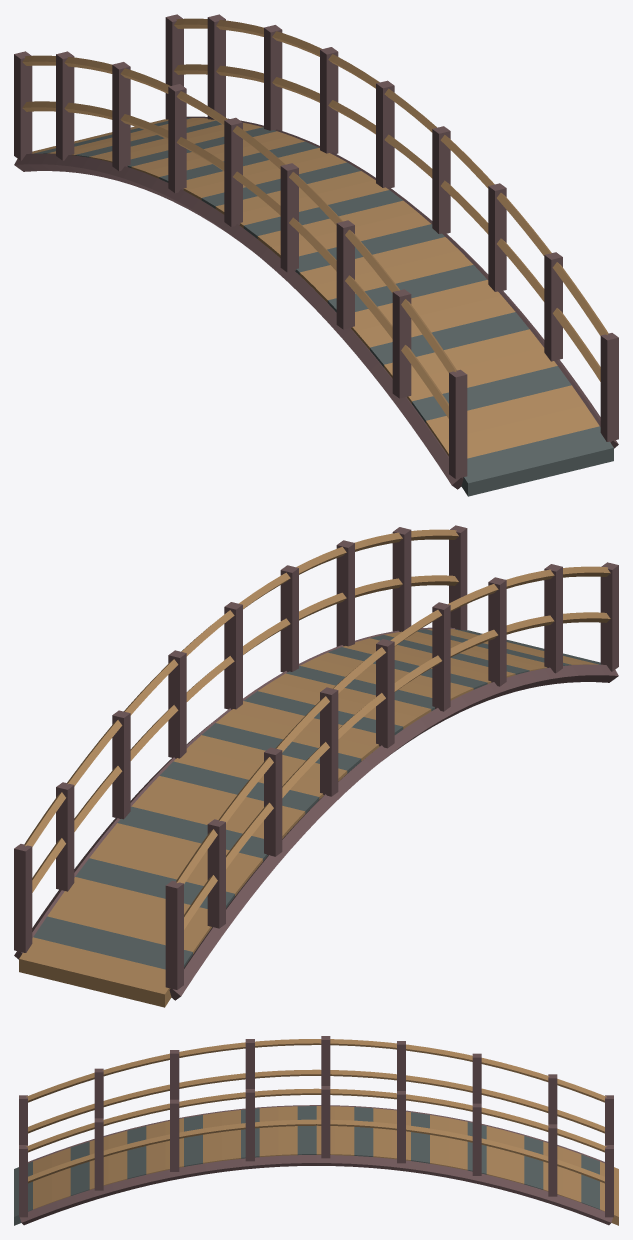
Rendered from footbridge.glb.
The picture shows the model from 3 angles, top to bottom: view 1: azimuth 30°, elevation 25°; view 2: azimuth 150°, elevation 25°; view 3: azimuth 270°, elevation 25°; orthographic projection. The views are drawn at different scales.
Parts seen in each view (by area): view 1: Footbridge_side_stringer, Footbridge_plank, Footbridge_curved_handrail.001, Footbridge_curved_handrail.003, Footbridge_curved_handrail.002, Footbridge_curved_handrail, Footbridge_plank.001, Footbridge_plank.002, Footbridge_plank.003, Footbridge_plank.004, Footbridge_plank.006, Footbridge_plank.005 (+39 smaller); view 2: Footbridge_side_stringer, Footbridge_plank.031, Footbridge_curved_handrail.001, Footbridge_curved_handrail.003, Footbridge_curved_handrail.002, Footbridge_curved_handrail, Footbridge_plank.030, Footbridge_plank.029, Footbridge_plank.028, Footbridge_plank.026, Footbridge_plank.025, Footbridge_plank.027 (+38 smaller); view 3: Footbridge_side_stringer.001, Footbridge_curved_handrail.001, Footbridge_curved_handrail.003, Footbridge_curved_handrail.002, Footbridge_curved_handrail, Footbridge_side_stringer, Footbridge_plank.014, Footbridge_plank.017, Footbridge_plank.013, Footbridge_plank.018, Footbridge_plank.006, Footbridge_plank.007 (+44 smaller).
Boxes of the visible parts, x1=… form: Footbridge_side_stringer: x1=14, y1=153, x2=463, y2=489; Footbridge_plank: x1=461, y1=426, x2=613, y2=496; Footbridge_curved_handrail.001: x1=22, y1=55, x2=456, y2=372; Footbridge_curved_handrail.003: x1=174, y1=18, x2=608, y2=335; Footbridge_curved_handrail.002: x1=174, y1=64, x2=600, y2=381; Footbridge_curved_handrail: x1=22, y1=101, x2=448, y2=418; Footbridge_plank.001: x1=440, y1=405, x2=599, y2=458; Footbridge_plank.002: x1=426, y1=385, x2=585, y2=442; Footbridge_plank.003: x1=412, y1=366, x2=571, y2=422; Footbridge_plank.004: x1=407, y1=347, x2=557, y2=403; Footbridge_plank.006: x1=370, y1=312, x2=529, y2=367; Footbridge_plank.005: x1=384, y1=329, x2=543, y2=379; Footbridge_side_stringer: x1=169, y1=664, x2=618, y2=1000; Footbridge_plank.031: x1=19, y1=937, x2=171, y2=1007; Footbridge_curved_handrail.001: x1=176, y1=566, x2=610, y2=883; Footbridge_curved_handrail.003: x1=24, y1=529, x2=458, y2=846; Footbridge_curved_handrail.002: x1=32, y1=575, x2=458, y2=892; Footbridge_curved_handrail: x1=184, y1=612, x2=610, y2=929; Footbridge_plank.030: x1=33, y1=916, x2=192, y2=969; Footbridge_plank.029: x1=47, y1=896, x2=206, y2=953; Footbridge_plank.028: x1=61, y1=877, x2=211, y2=933; Footbridge_plank.026: x1=89, y1=840, x2=248, y2=895; Footbridge_plank.025: x1=103, y1=823, x2=262, y2=878; Footbridge_plank.027: x1=75, y1=858, x2=234, y2=908; Footbridge_side_stringer.001: x1=20, y1=1155, x2=612, y2=1225; Footbridge_curved_handrail.001: x1=26, y1=1039, x2=606, y2=1102; Footbridge_curved_handrail.003: x1=26, y1=1088, x2=606, y2=1152; Footbridge_curved_handrail.002: x1=28, y1=1119, x2=604, y2=1183; Footbridge_curved_handrail: x1=28, y1=1069, x2=604, y2=1133; Footbridge_side_stringer: x1=28, y1=1105, x2=604, y2=1163; Footbridge_plank.014: x1=278, y1=1106, x2=297, y2=1155; Footbridge_plank.017: x1=335, y1=1106, x2=354, y2=1155; Footbridge_plank.013: x1=259, y1=1107, x2=278, y2=1156; Footbridge_plank.018: x1=354, y1=1107, x2=373, y2=1156; Footbridge_plank.006: x1=127, y1=1126, x2=146, y2=1179; Footbridge_plank.007: x1=146, y1=1122, x2=165, y2=1174.
Size of the model in its own units: 1.72 by 2.03 by 8.
